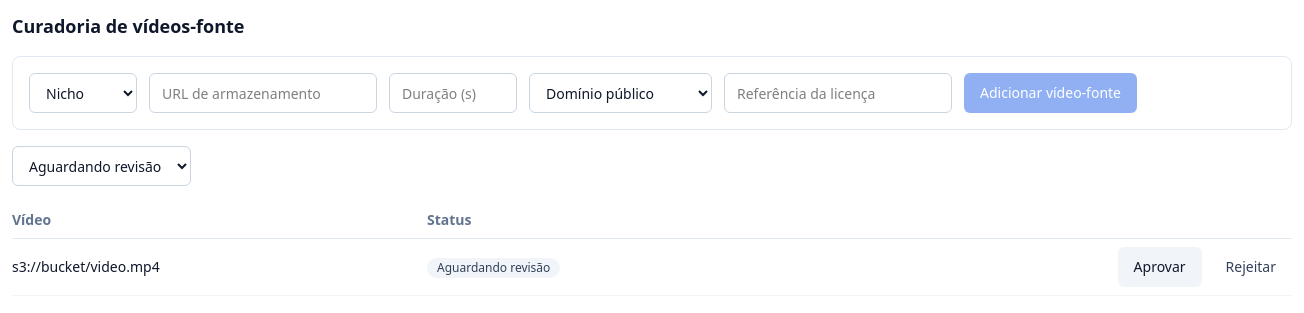
Scenario: SourceVideoCuration › should filter by status
The width and height of the screenshot is (1304, 313).
Expected: the text "s3://bucket/video.mp4" is shown, [12,238,427,296]
Select "Aprovado" in the 3rd dropdown showing "Aguardando revisão" at (102, 166), box [12,146,191,186]
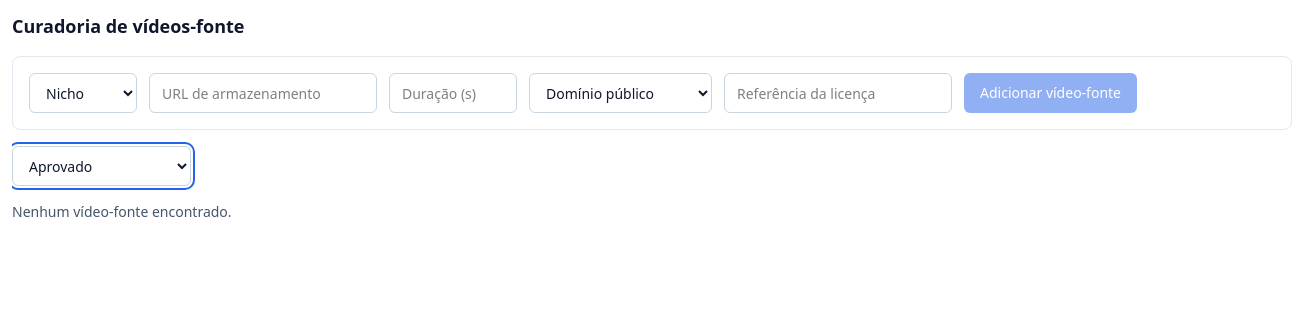
Result: the text "Nenhum vídeo-fonte encontrado." is shown at [12,202,232,221]
